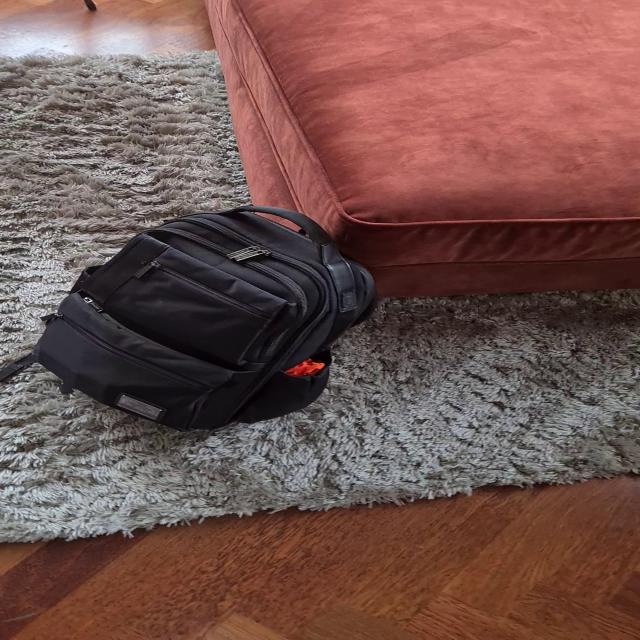backpack: (22, 194, 394, 436)
